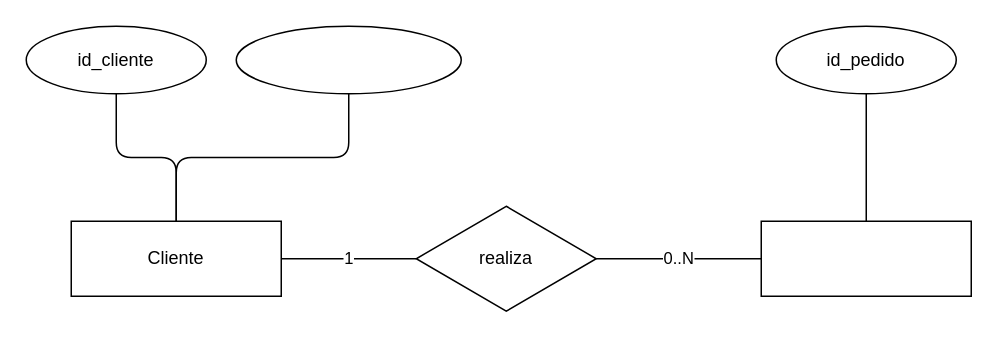
The diagram is 998 pixels wide and 338 high, and some of its shapes have lost their labels. Here are the shapes that lost their labels. From the top down, the centre of each, then its label:
(348,59): nombre: varchar(100)
(865,258): Pedido
